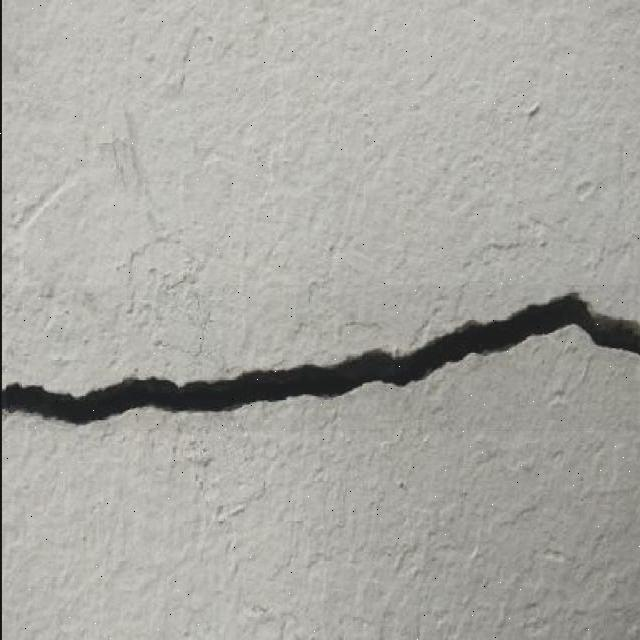crack: (2, 289, 639, 427), (404, 383, 592, 541), (466, 4, 640, 150), (8, 231, 160, 380), (522, 395, 640, 561), (3, 3, 158, 123), (204, 387, 405, 479), (449, 511, 582, 636), (238, 104, 374, 218), (141, 0, 279, 94), (541, 501, 640, 628), (6, 412, 126, 514), (9, 373, 194, 426), (203, 452, 309, 537), (511, 194, 625, 258), (139, 263, 219, 353), (11, 165, 87, 240), (393, 291, 479, 353), (603, 129, 638, 263), (457, 226, 553, 274), (332, 161, 378, 254), (316, 316, 399, 366), (121, 237, 187, 292), (384, 535, 427, 579), (404, 60, 445, 99), (177, 432, 218, 470), (332, 610, 384, 636), (222, 543, 246, 591), (301, 276, 331, 312), (528, 216, 554, 243), (491, 597, 511, 629), (219, 501, 248, 521), (244, 602, 271, 621), (258, 438, 281, 460), (275, 611, 299, 632), (391, 548, 410, 574), (202, 485, 224, 506), (252, 4, 271, 28), (433, 608, 452, 631), (39, 283, 57, 300), (467, 545, 481, 564), (9, 207, 23, 225), (214, 503, 227, 522)
dampens: (414, 304, 551, 369), (575, 304, 640, 361), (104, 130, 148, 209), (511, 294, 581, 335), (172, 377, 246, 407), (176, 23, 207, 74), (216, 360, 270, 379), (338, 319, 384, 334)
